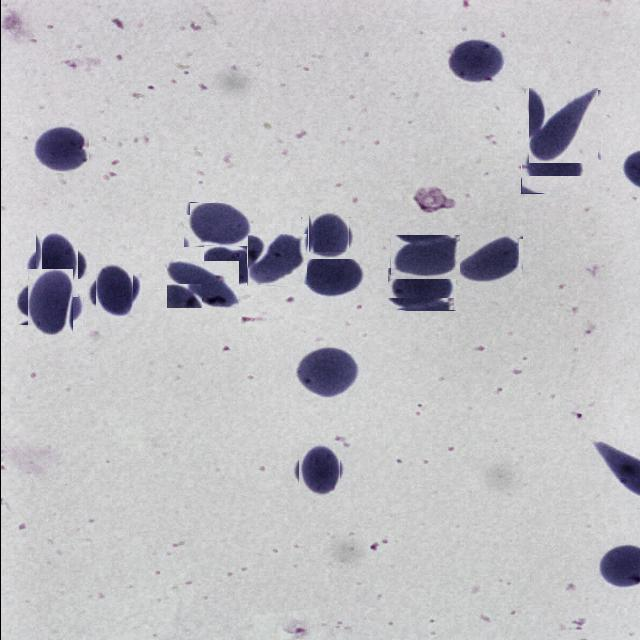red blood cell: (526, 88, 599, 162), (292, 346, 361, 398), (165, 261, 238, 309), (520, 143, 584, 194), (454, 236, 522, 284), (182, 202, 252, 248), (389, 235, 459, 280), (21, 274, 77, 330), (246, 234, 306, 286), (301, 252, 366, 298), (386, 268, 455, 311), (30, 237, 84, 291), (444, 38, 506, 84), (31, 126, 88, 173), (294, 446, 342, 494), (303, 214, 351, 262), (203, 246, 261, 285), (90, 268, 136, 314)
